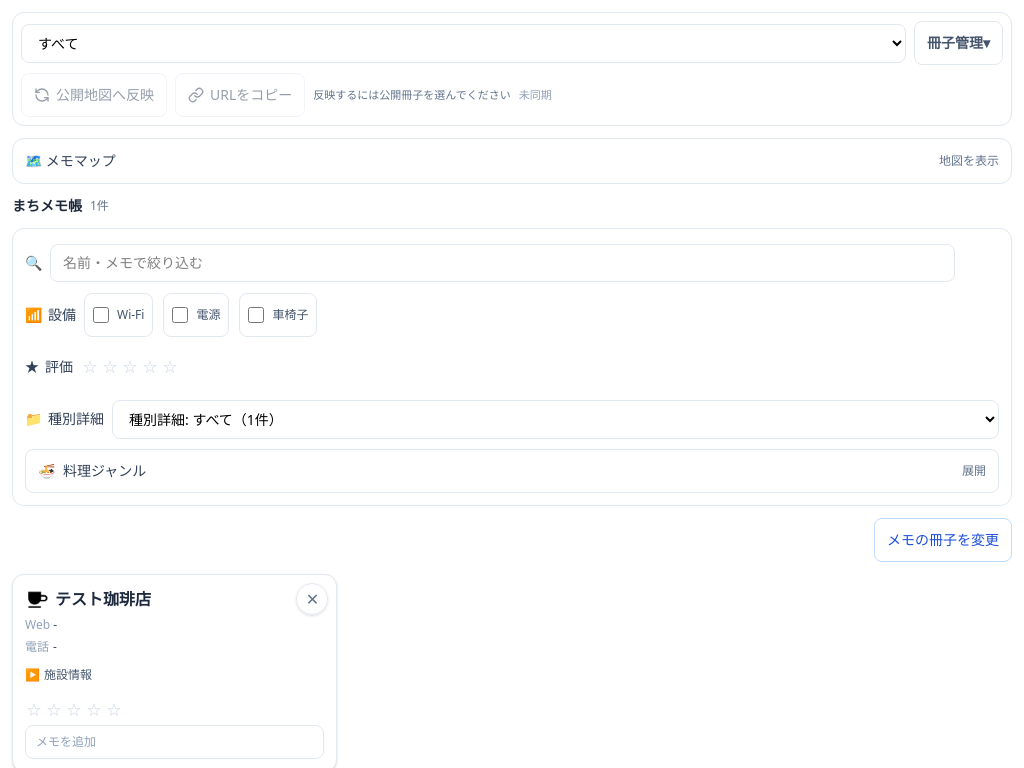
Test: MemochoSection: カードの✕（2段階確認・論理削除） › 1回目で確認帯が出て、2回目で実行しごみ箱へ移動する（通常一覧は0件）
This screenshot has width=1024, height=768.
Expected: the heading "テスト珈琲店" is shown, [55,587,151,611]
Click the button named "テスト珈琲店をメモ帳から削除" at (312, 599), box [296,583,328,615]
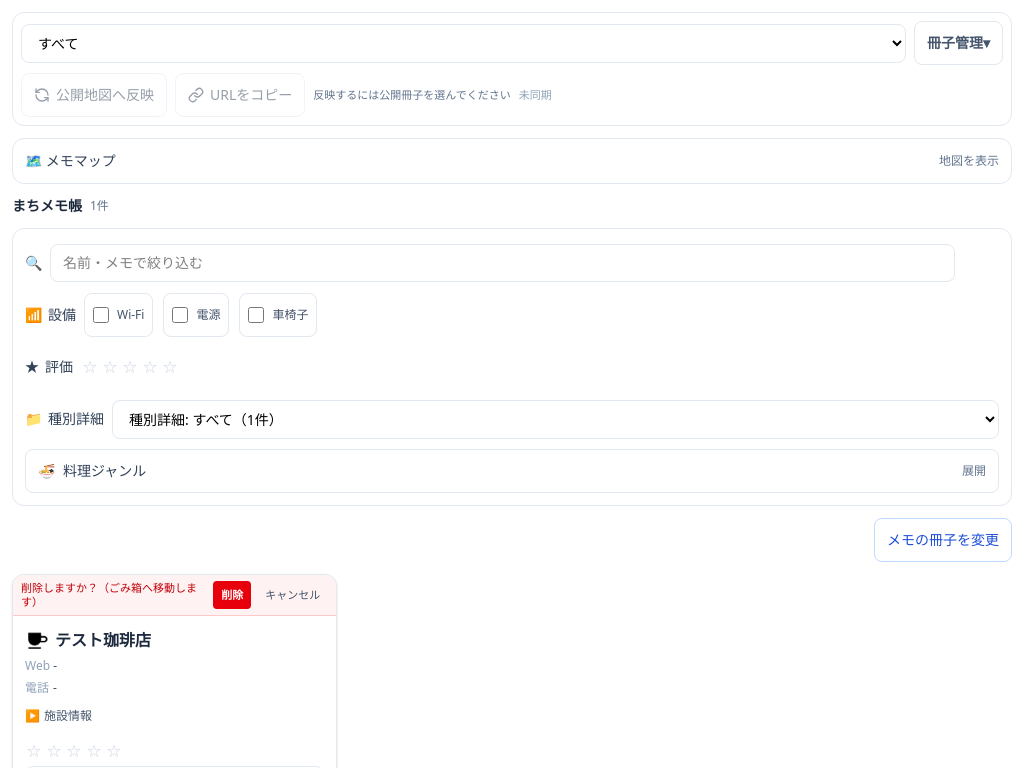
Expected: the heading "テスト珈琲店" is shown, [55,628,151,652]
Expected: the text "削除しますか？（ごみ箱へ移動します）" is shown, [21,581,207,609]
2回目（削除ボタン）: 論理削除。通常一覧は0件だがストアには残り続ける
Click the button "削除" at (232, 595), box [213,581,251,609]
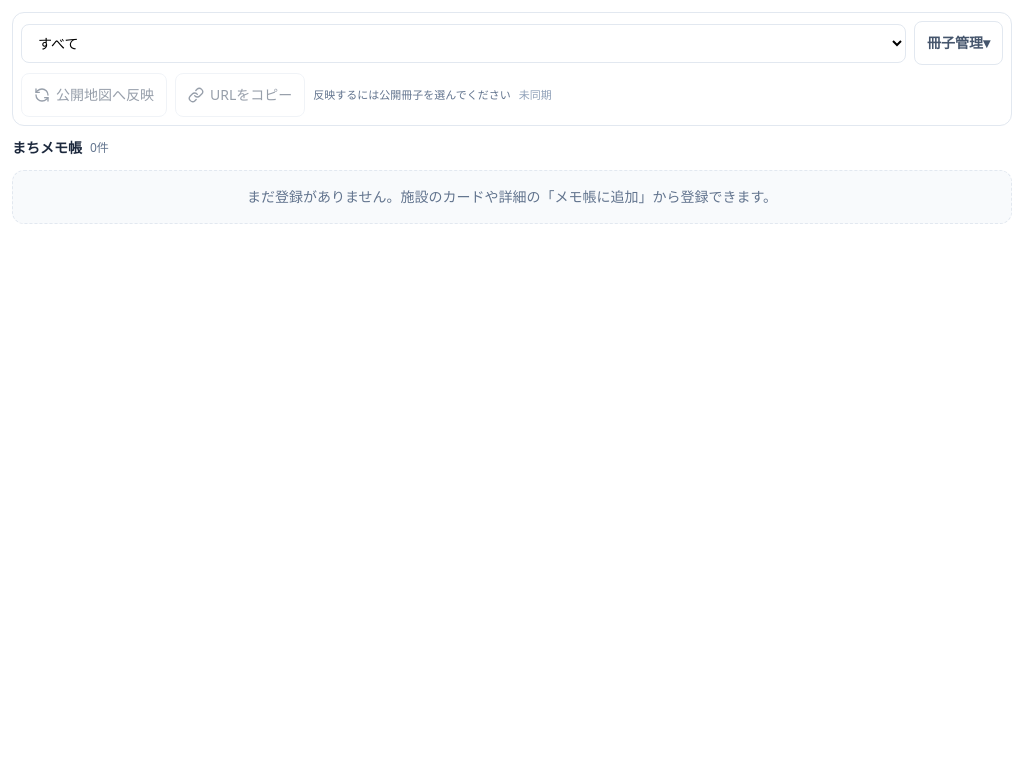
Expected: the text "まだ登録がありません。施設のカードや詳細の「メモ帳に追加」から登録できます。" is shown, [12,170,1012,224]
